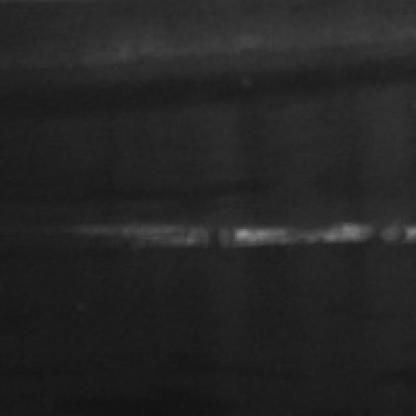scratches: (106, 214, 416, 250)
